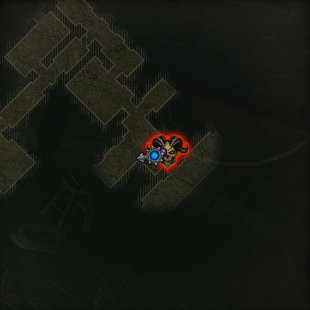Guardian: (148, 134, 189, 170)
